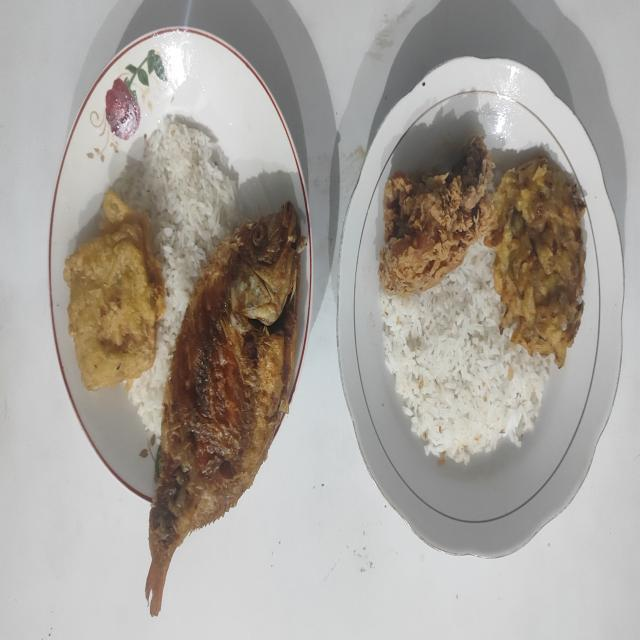ikan_mujair: (146, 201, 305, 615)
nasi_putih: (380, 239, 552, 465), (119, 118, 239, 438)
